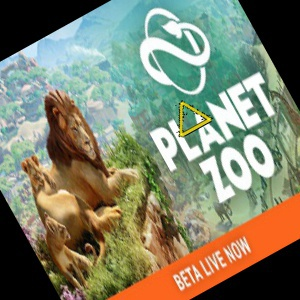triangle: (171, 97, 214, 139)
